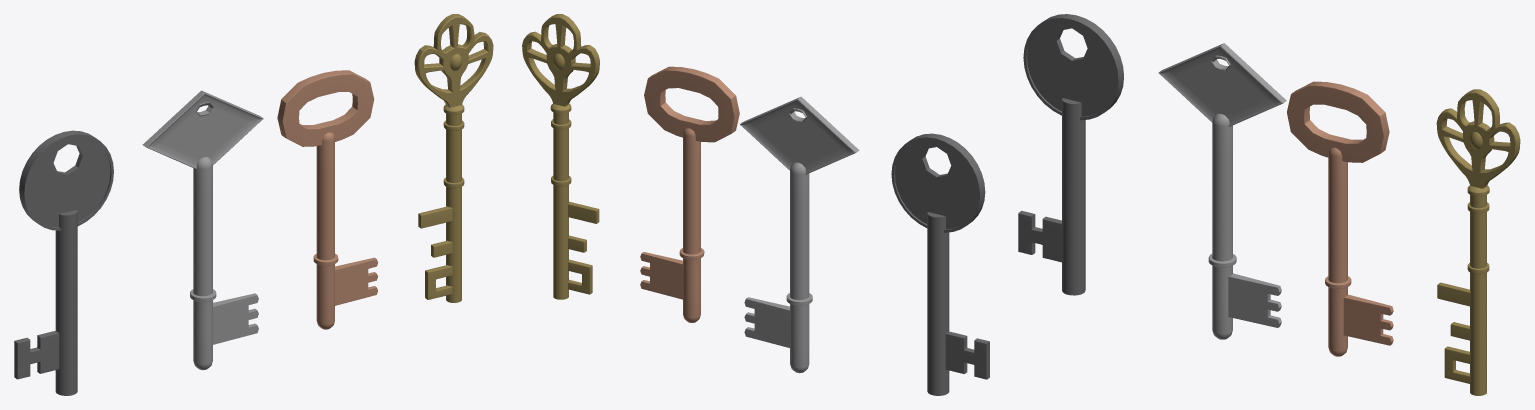
File: key.fbx
3 renders of one model, left to right at view 1: azimuth 30°, elevation 25°; view 2: azimuth 150°, elevation 25°; view 3: azimuth 330°, elevation 25°, orthographic. The views are drawn at different scales.
Parts seen in each view (by area): view 1: key_4, key_2, key_1.001, key_3; view 2: key_4, key_2, key_1.001, key_3; view 3: key_4, key_2, key_1.001, key_3.
Boxes of the visible parts, <box> form: key_4: <box>14,130,113,395</box>; key_2: <box>142,90,263,370</box>; key_1.001: <box>277,70,378,329</box>; key_3: <box>414,14,493,302</box>; key_4: <box>891,133,989,395</box>; key_2: <box>740,96,859,373</box>; key_1.001: <box>640,66,739,322</box>; key_3: <box>522,14,599,299</box>; key_4: <box>1018,14,1123,295</box>; key_2: <box>1158,43,1286,339</box>; key_1.001: <box>1287,81,1393,356</box>; key_3: <box>1436,89,1520,395</box>.
Bounding box in the file's own units: 984 × 592 × 71.1.
